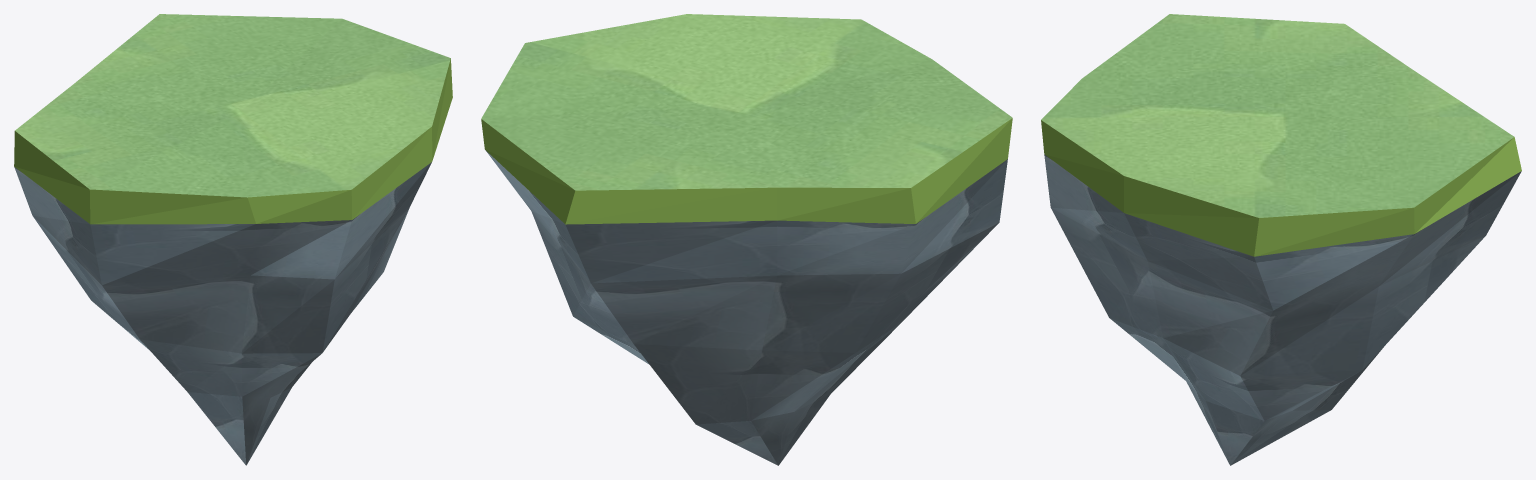
File: sky_debris_a.glb
The picture shows the model from 3 angles, left to right: view 1: azimuth 30°, elevation 25°; view 2: azimuth 150°, elevation 25°; view 3: azimuth 270°, elevation 25°; orthographic projection. The views are drawn at different scales.
Visible parts, largest first — view 1: debris; view 2: debris; view 3: debris.
Boxes of the visible parts, bbox=[...] form: debris: bbox=[14, 14, 452, 465]; debris: bbox=[481, 14, 1012, 465]; debris: bbox=[1041, 14, 1521, 465].
Bounding box in the file's own units: 1.98 × 1.61 × 1.96.
3 materials, 2 textured.
